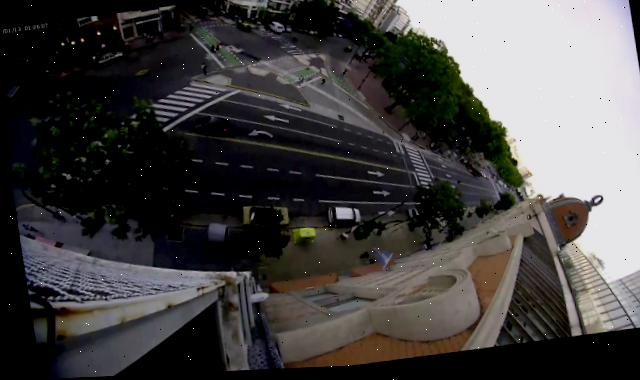bus: (463, 167, 478, 181)
car: (235, 202, 287, 233), (190, 115, 229, 141), (322, 205, 358, 230), (94, 50, 122, 67), (15, 68, 39, 85), (50, 66, 72, 82), (266, 22, 282, 36), (235, 23, 250, 35), (403, 211, 415, 220), (196, 5, 206, 12), (283, 26, 291, 34), (343, 48, 351, 55), (295, 28, 302, 35), (334, 35, 341, 40), (279, 28, 284, 34), (494, 184, 499, 189), (329, 34, 334, 38), (308, 31, 312, 36), (302, 30, 306, 35), (480, 177, 484, 182), (312, 32, 316, 36), (477, 175, 481, 179), (483, 179, 487, 183)
